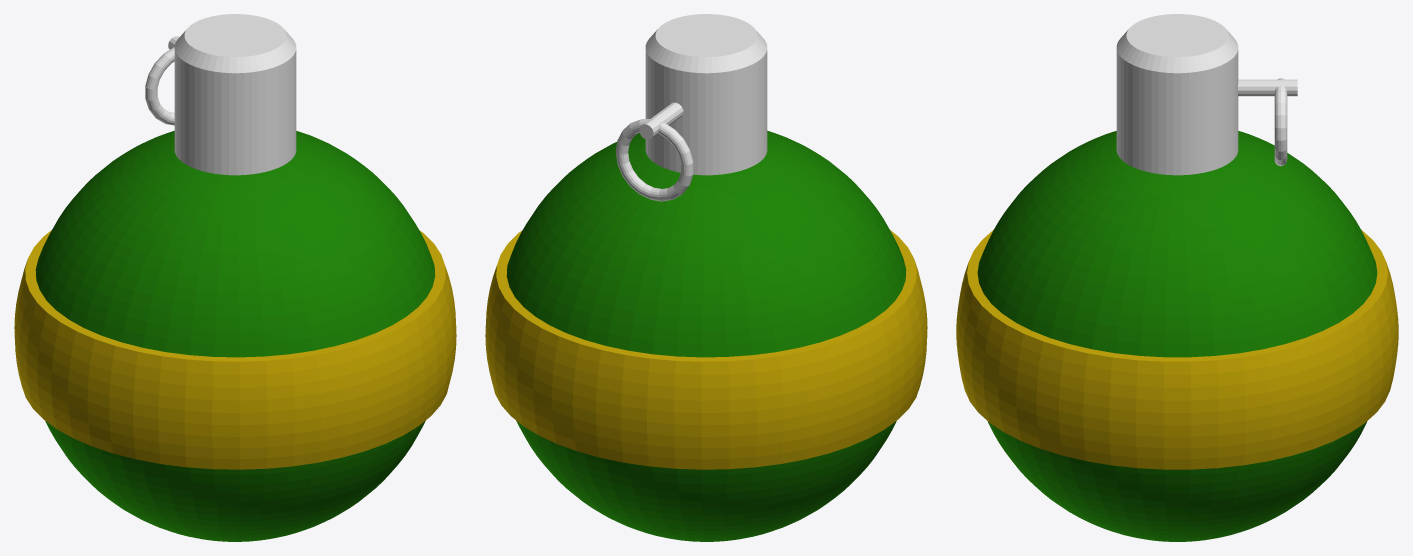
Rendered from FragGrenadeTCT.fbx.
3 views of the same model, side by side, from view 1: azimuth 30°, elevation 25°; view 2: azimuth 150°, elevation 25°; view 3: azimuth 270°, elevation 25° (orthographic).
Visible parts, largest first — view 1: NadeBody, Label, Shaft, Ring; view 2: NadeBody, Label, Shaft, Ring, Pin; view 3: NadeBody, Label, Shaft, Ring, Pin.
Part boxes in pixels (<box>): NadeBody: <box>35,130,435,541</box>; Label: <box>14,230,456,469</box>; Shaft: <box>174,14,296,175</box>; Ring: <box>145,47,174,125</box>; NadeBody: <box>506,130,906,541</box>; Label: <box>485,230,927,469</box>; Shaft: <box>645,14,767,175</box>; Ring: <box>615,119,693,201</box>; Pin: <box>639,102,683,139</box>; NadeBody: <box>977,131,1377,541</box>; Label: <box>956,230,1398,469</box>; Shaft: <box>1116,14,1238,175</box>; Ring: <box>1274,78,1287,166</box>; Pin: <box>1238,79,1297,96</box>.
Bounding box in the file's own units: 210 × 255 × 211.
